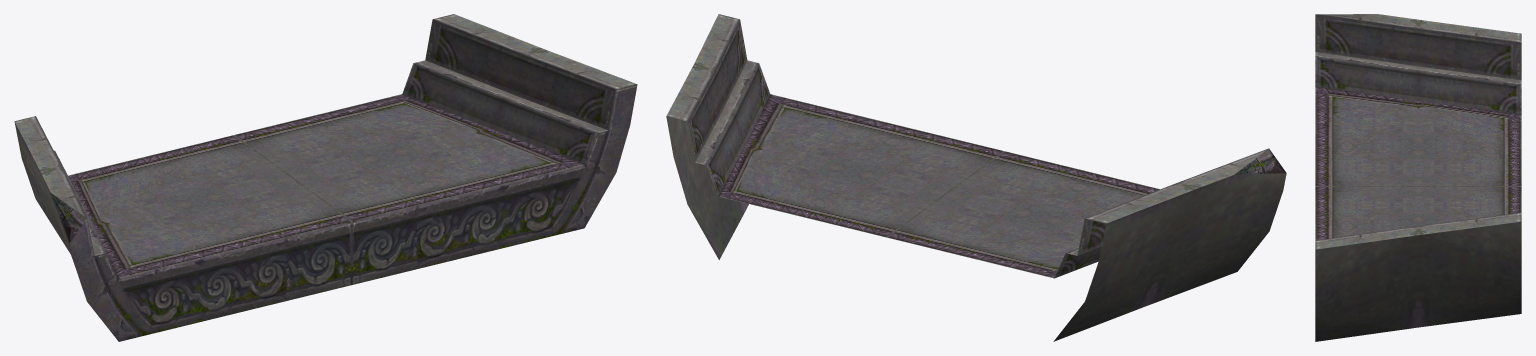
Rendered from yw_langhuanfudi_shichuang02.FBX.
The picture shows the model from 3 angles, left to right: view 1: azimuth 30°, elevation 25°; view 2: azimuth 150°, elevation 25°; view 3: azimuth 270°, elevation 25°; orthographic projection. The views are drawn at different scales.
Parts seen in each view (by area): view 1: yw_langhuanfudi_shichuang02; view 2: yw_langhuanfudi_shichuang02; view 3: yw_langhuanfudi_shichuang02.
Boxes of the visible parts, box(x1,y1,x2,y2) form: yw_langhuanfudi_shichuang02: box(14, 14, 637, 341); yw_langhuanfudi_shichuang02: box(666, 14, 1286, 341); yw_langhuanfudi_shichuang02: box(1315, 14, 1521, 341).
Size of the model in its own units: 964 by 213 by 347.
